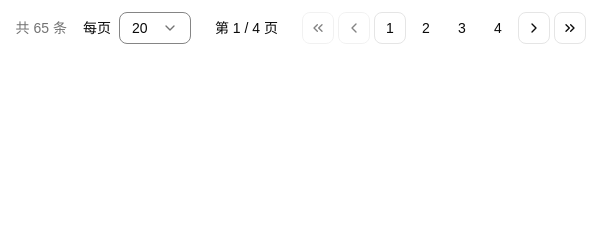
Scenario: numbered data table pagination › opens the real Base UI page-size selector with the keyboard and resets to page one
The image size is (598, 237).
Click the button named "末页". click: (570, 28)
box: [554,12,586,44]
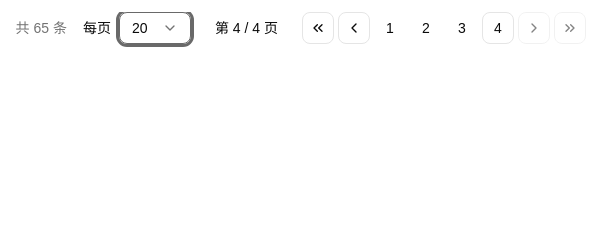
Expected: the text "20" is shown, [132,20,148,36]
Press ArrowDown in the dropdown labelled "20 ▼", box [119,12,191,44]
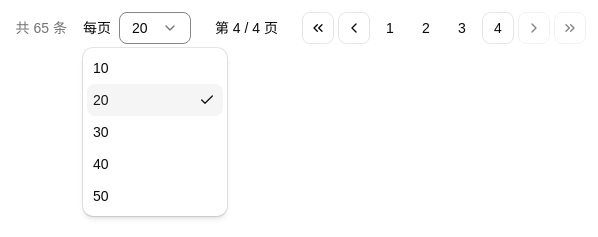
Click the option "50". click: (101, 196)
box: [93,188,109,204]
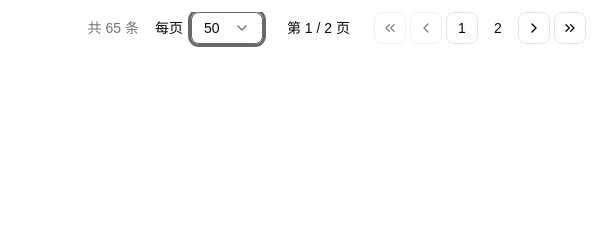
Expected: the text "50" is shown, [204,20,220,36]
Expected: the text "第 1 / 2 页" is shown, [287,18,350,38]
